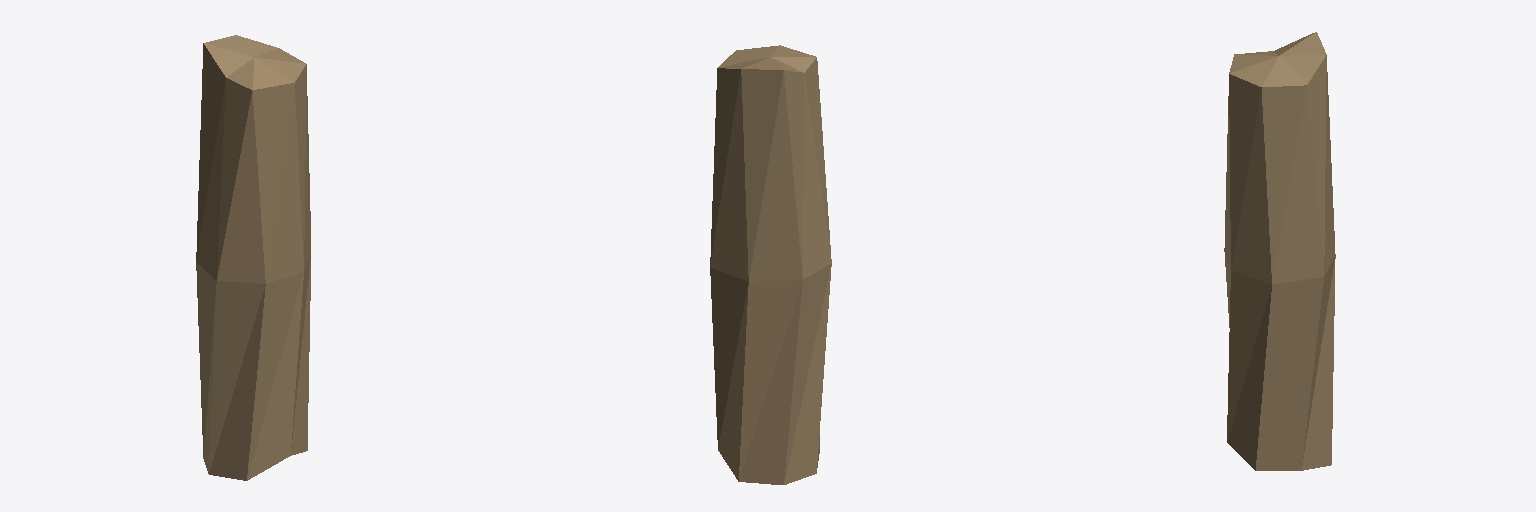
The model's file is WoodTrunkCenter.obj.
3 renders of one model, left to right at view 1: azimuth 30°, elevation 25°; view 2: azimuth 150°, elevation 25°; view 3: azimuth 270°, elevation 25°, orthographic.
Parts seen in each view (by area): view 1: WoodTrunkCenter; view 2: WoodTrunkCenter; view 3: WoodTrunkCenter.
Boxes of the visible parts, x1=… form: WoodTrunkCenter: x1=196, y1=35, x2=310, y2=480; WoodTrunkCenter: x1=710, y1=45, x2=831, y2=484; WoodTrunkCenter: x1=1224, y1=32, x2=1335, y2=470.
Size of the model in its own units: 1.12 by 4.32 by 1.05.